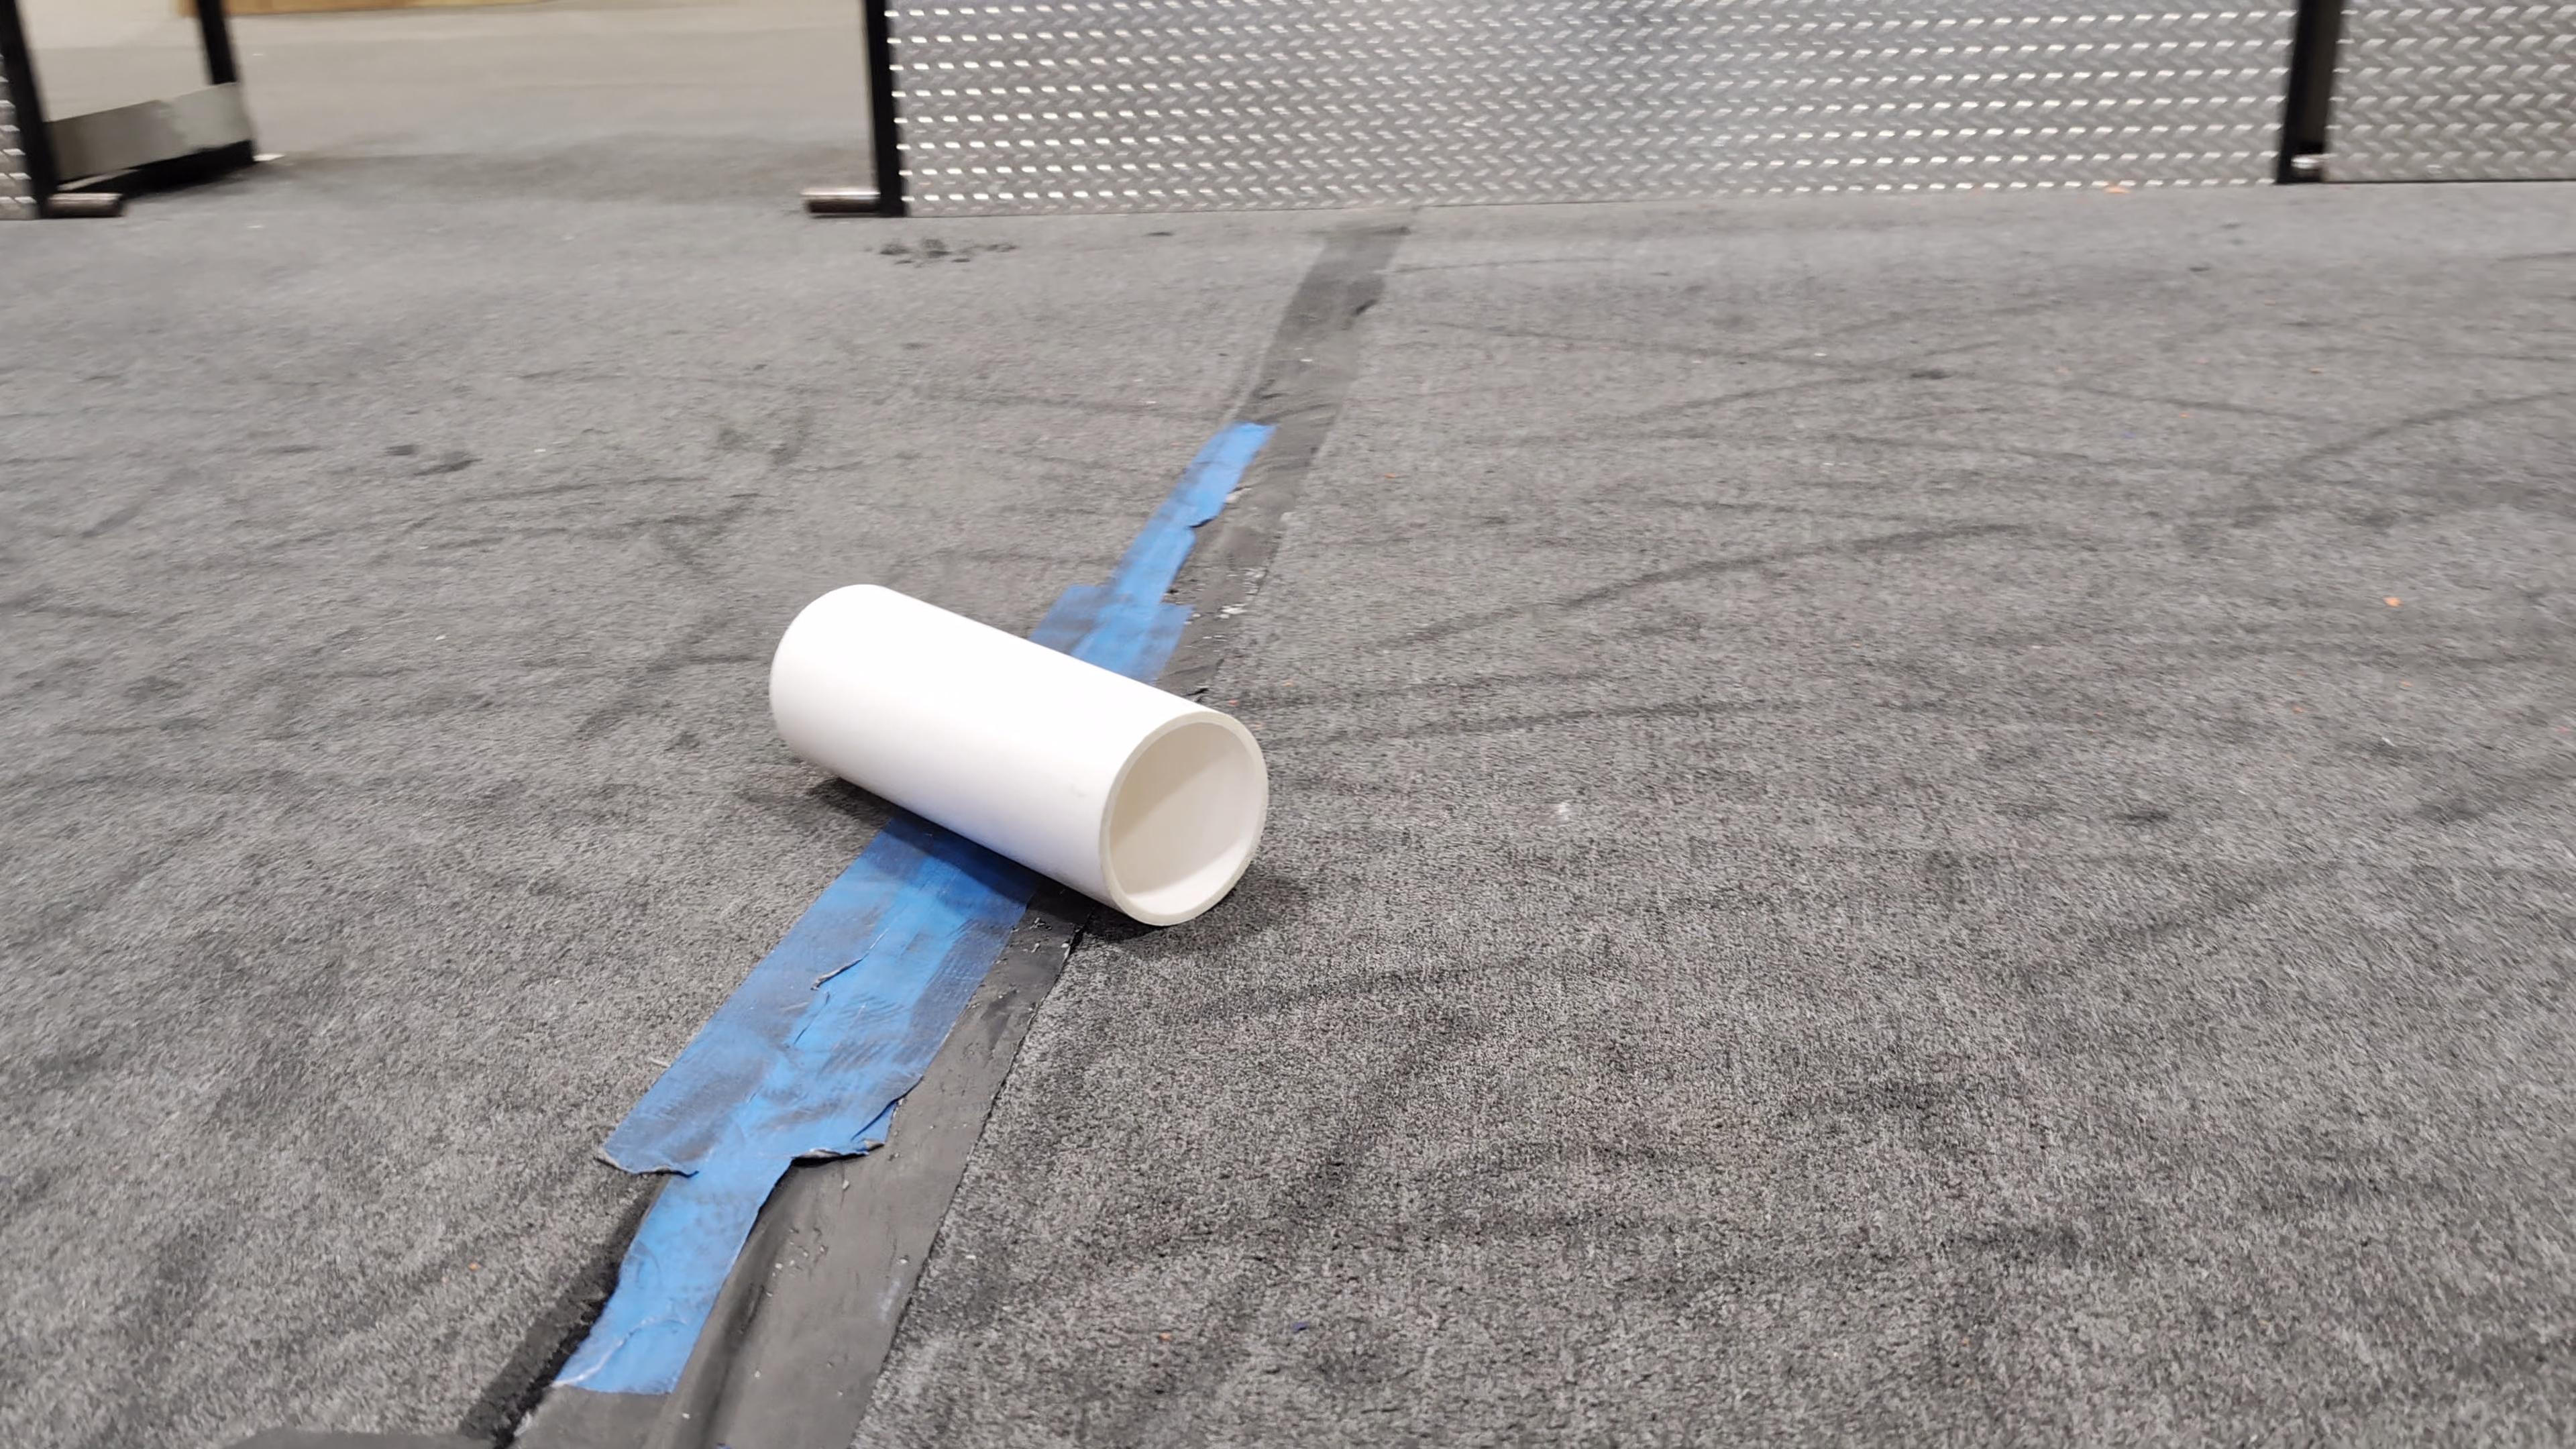coral: (771, 586, 1270, 927)
